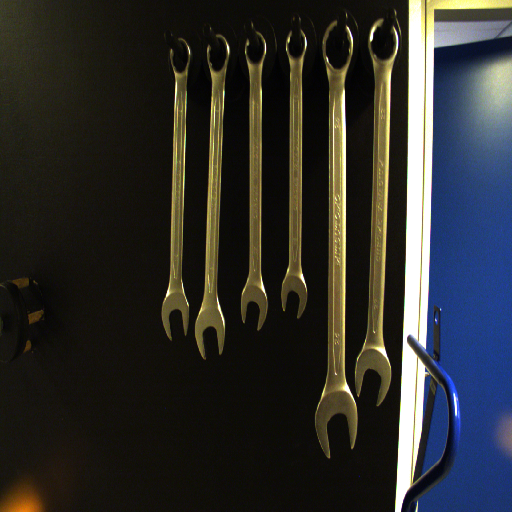bottom: (312, 390, 359, 460), (352, 344, 395, 410), (158, 293, 192, 341), (194, 309, 226, 360), (238, 282, 270, 330), (279, 274, 308, 318)
top: (320, 17, 356, 73), (366, 16, 401, 68), (204, 33, 232, 74), (242, 30, 270, 69), (168, 37, 194, 78), (282, 27, 310, 63)
